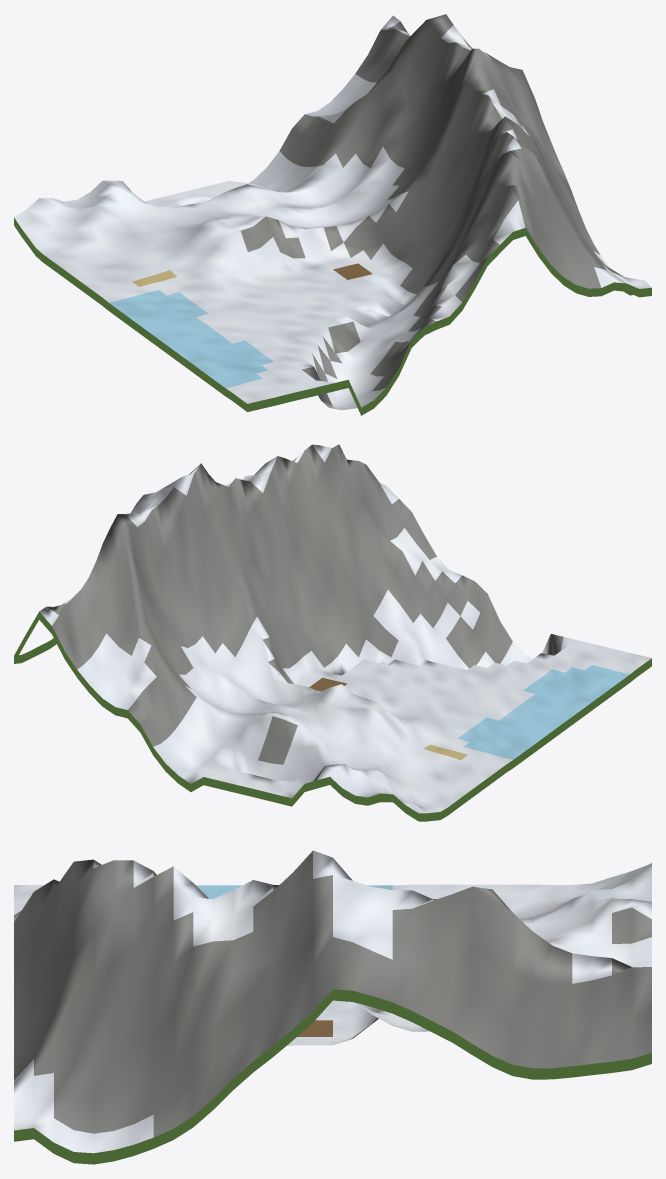
File: chunk_7_1_lod1.glb
The picture shows the model from 3 angles, top to bottom: view 1: azimuth 30°, elevation 25°; view 2: azimuth 150°, elevation 25°; view 3: azimuth 270°, elevation 25°; orthographic projection. The views are drawn at different scales.
Parts seen in each view (by area): view 1: Surface_Snow, Surface_Gravel, Surface_Ice, Skirt; view 2: Surface_Gravel, Surface_Snow, Surface_Ice, Skirt; view 3: Surface_Gravel, Surface_Snow, Skirt, Surface_Ice, Surface_Dirt.
Part boxes in pixels (x1,y1,x2,y2): Surface_Snow: (14,15,651,410); Surface_Gravel: (123,14,623,406); Surface_Ice: (109,289,273,388); Skirt: (14,217,651,415); Surface_Gravel: (47,444,563,780); Surface_Snow: (39,444,651,813); Surface_Ice: (457,665,629,759); Skirt: (14,611,651,821); Surface_Gravel: (14,851,651,1137); Surface_Snow: (14,850,651,1153); Skirt: (14,989,651,1164); Surface_Ice: (196,885,392,898); Surface_Dirt: (297,1020,332,1036).
Bounding box in the file's own units: 256 × 142 × 256.
